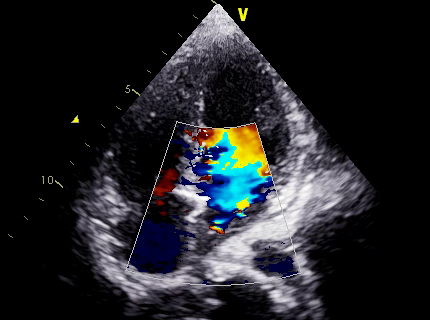MR: (201, 138, 282, 231)
